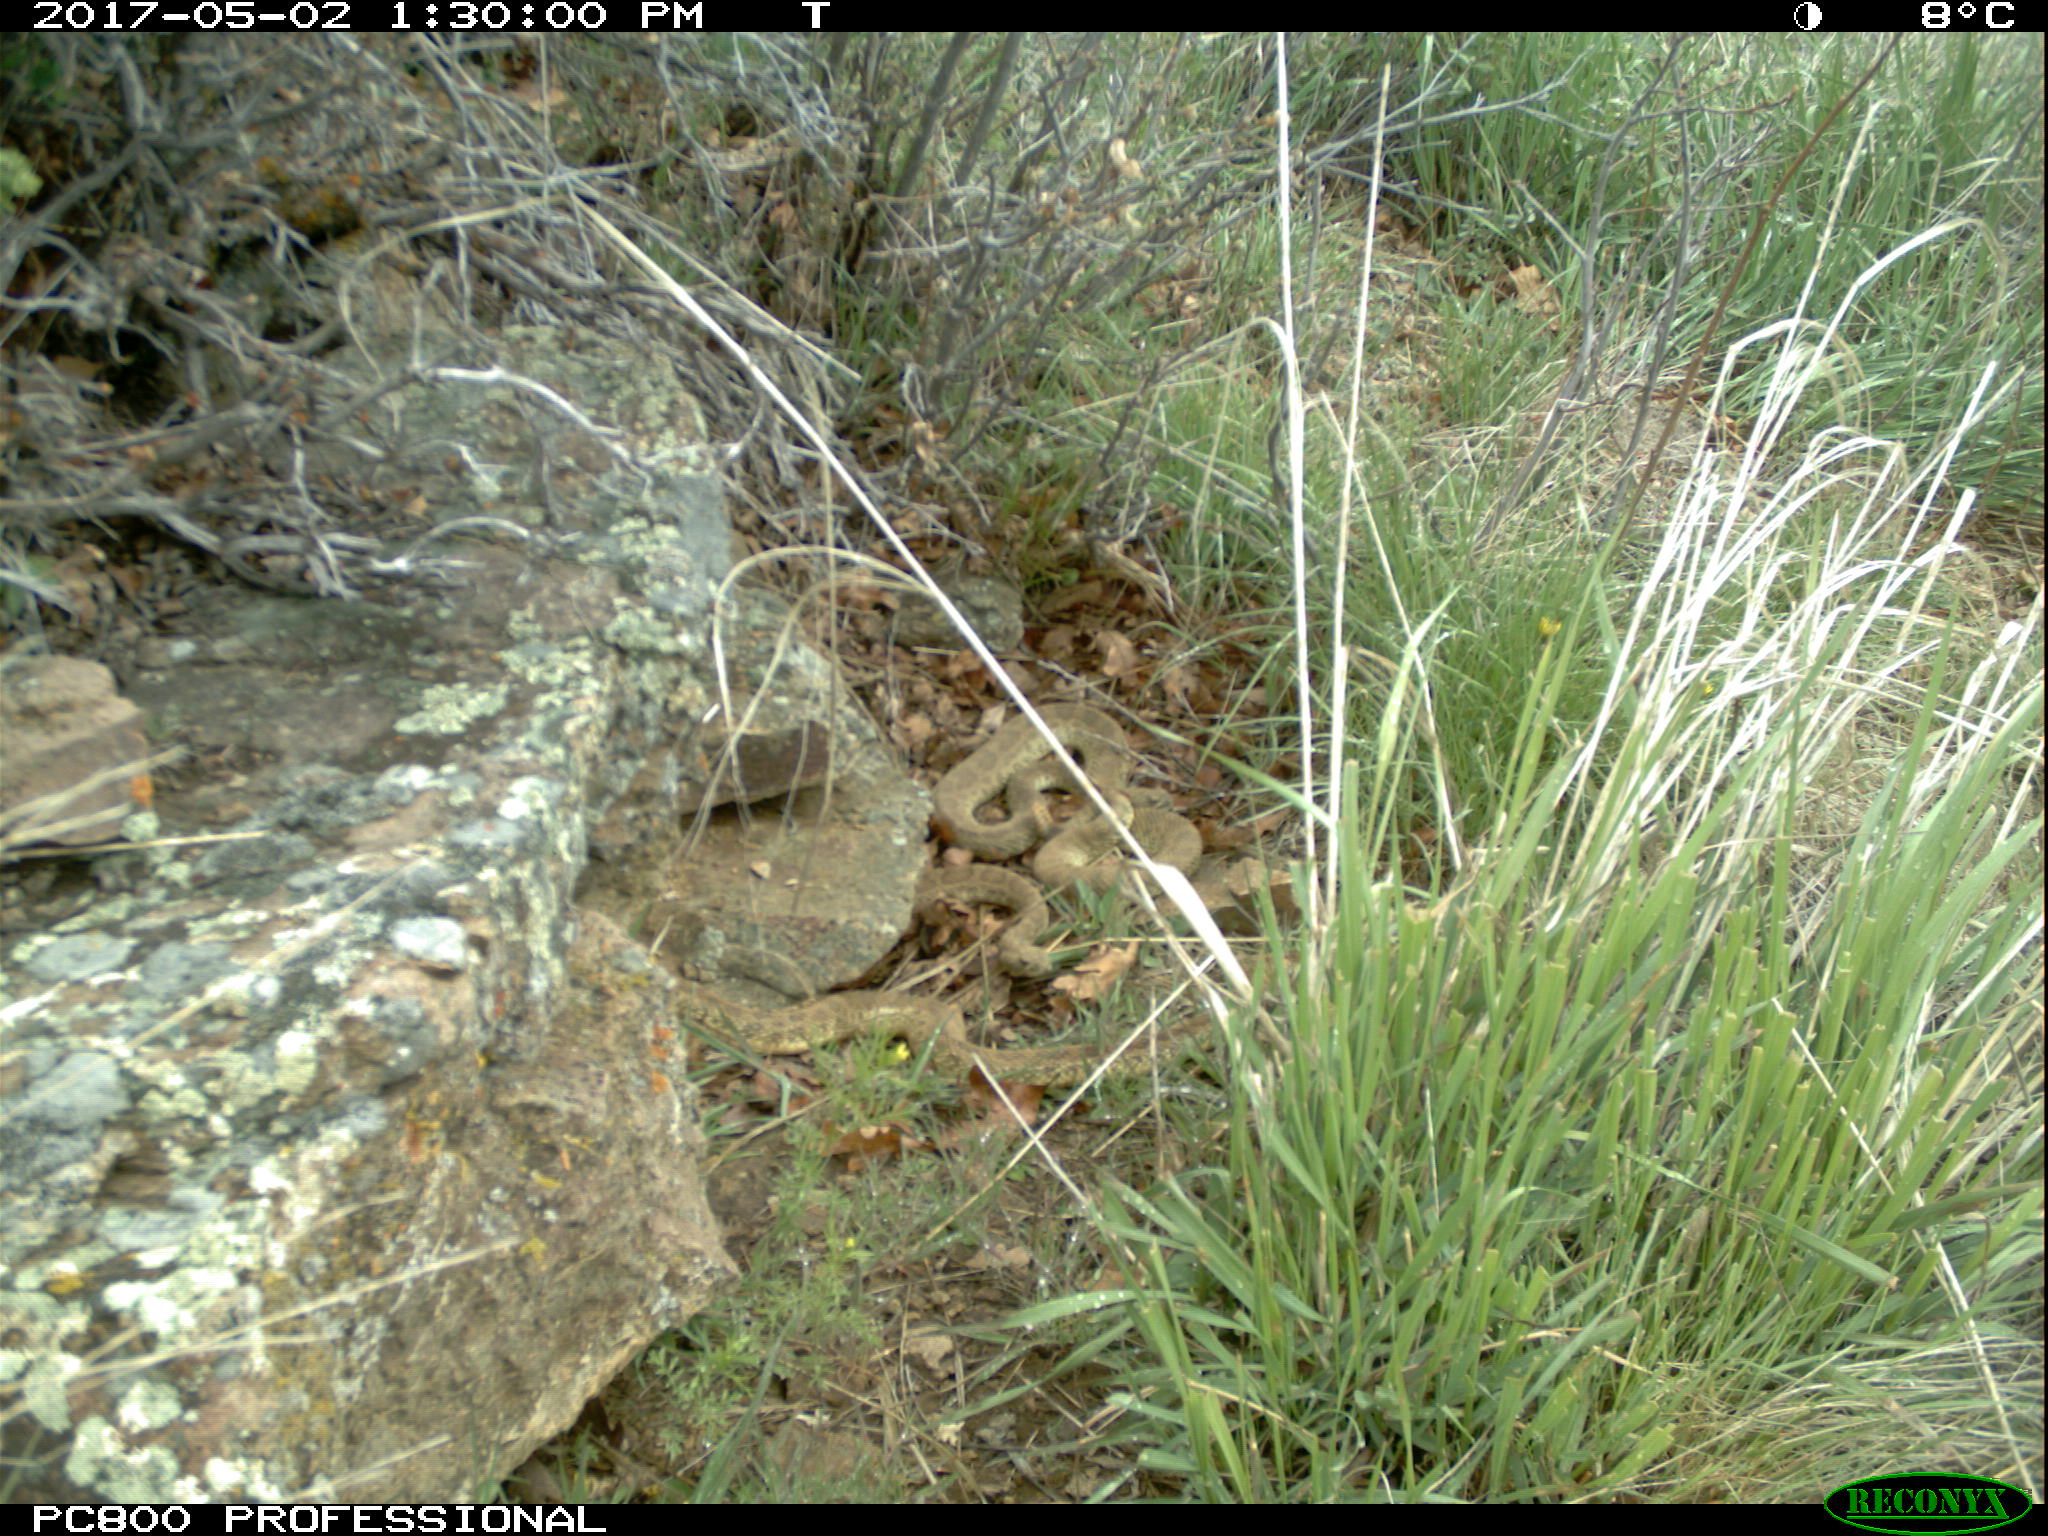snake: (664, 958, 1243, 1096), (943, 694, 1222, 892), (921, 868, 1090, 987)
